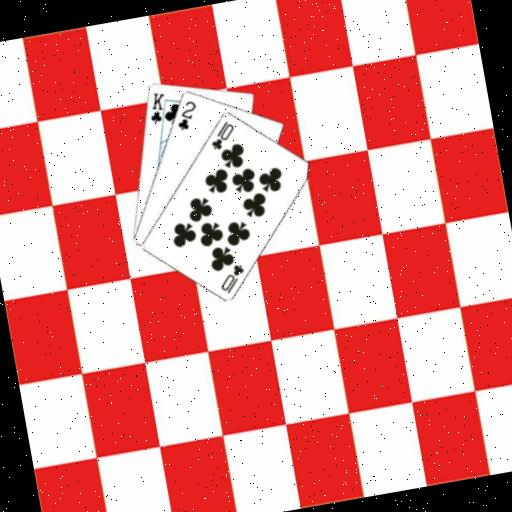10C: (214, 259, 249, 296), (205, 116, 239, 153)
2C: (170, 96, 201, 132)
KC: (143, 88, 173, 130)
